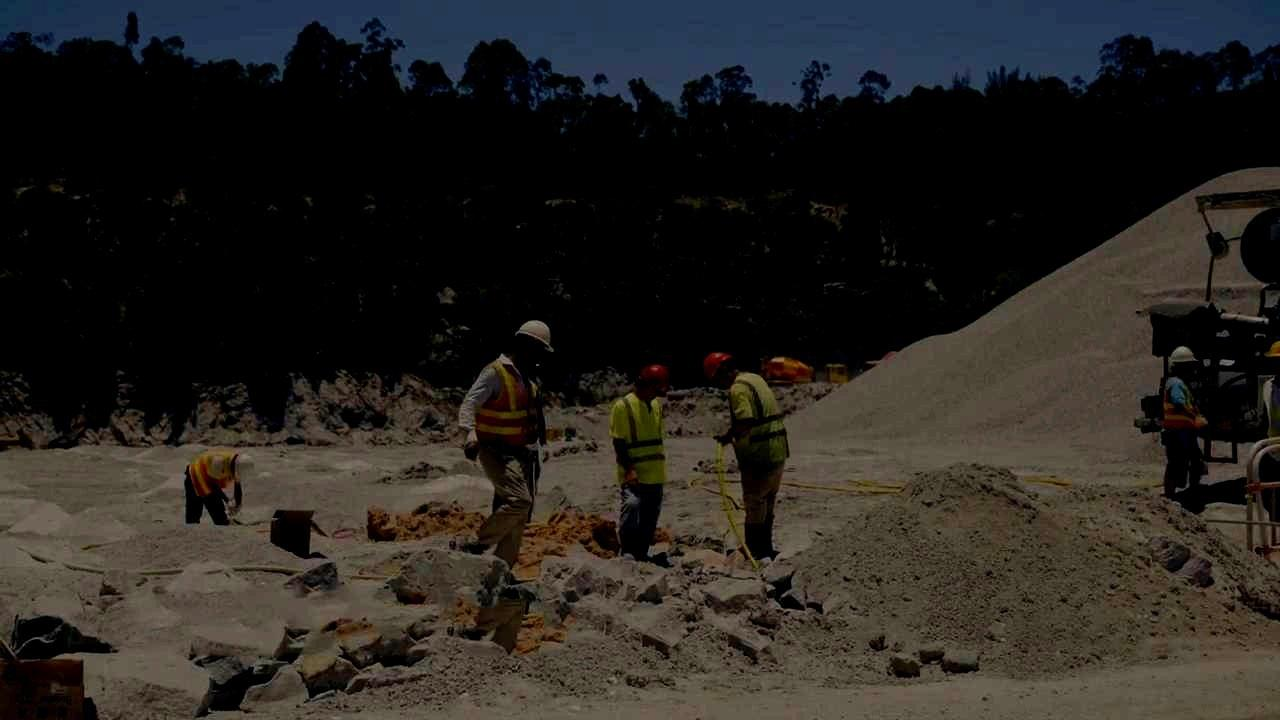helmet: (514, 320, 554, 368), (703, 353, 739, 392), (635, 364, 669, 402), (1170, 346, 1198, 378), (231, 452, 255, 484), (1265, 341, 1280, 371)
